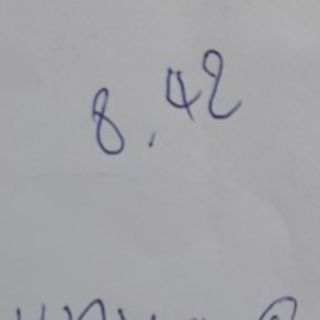.: (145, 139, 156, 150)
2: (201, 42, 246, 124)
4: (161, 59, 204, 125)
8: (85, 80, 125, 158)
